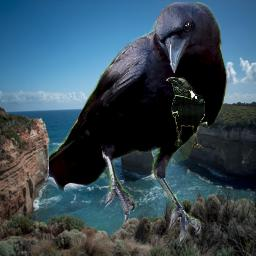Crow: (49, 2, 228, 246), (166, 77, 205, 148)
